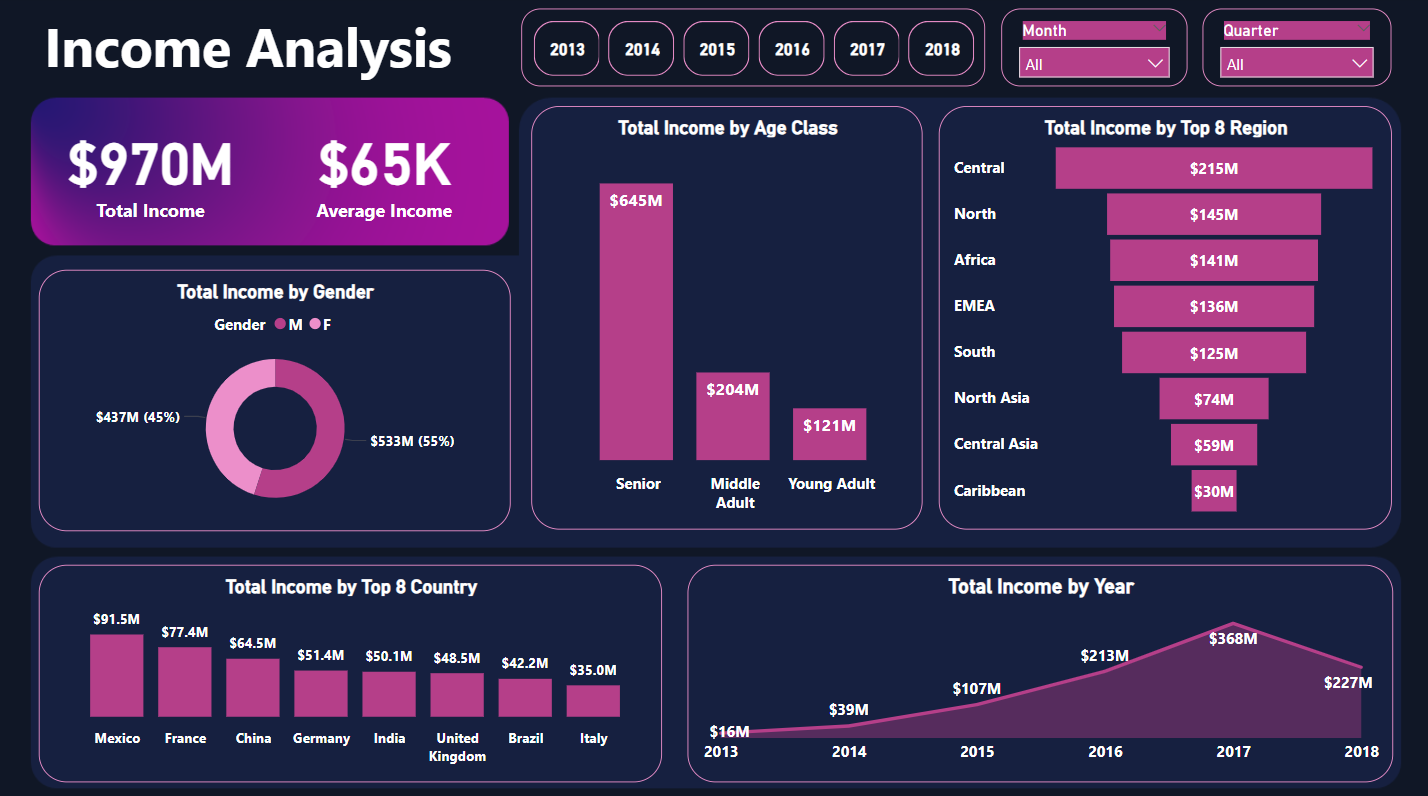

What the dashboard file says about the page in this screenshot:
{"tool":"powerbi","page":{"name":"Income","canvas":[1280,720],"ordinal":1},"visuals":[{"type":"areaChart","fields":{"Y":["All Measure.Total Income"],"Category":["customer.Date_Became_member.Variation.Date Hierarchy.Year"]},"box":[614,508.1,630.2,194.2],"z":0},{"type":"card","fields":{"Values":["All Measure.Total Income"]},"box":[34.9,98.8,200,110.5],"z":1000},{"type":"card","fields":{"Values":["All Measure.Average Income"]},"box":[243,98.8,200,110.5],"z":2000},{"type":"textbox","box":[34.3,6.9,411.7,74.1],"z":3000},{"type":"donutChart","fields":{"Category":["customer.gender"],"Y":["All Measure.Total Income"]},"box":[34.3,244.3,421.3,233.3],"z":4000},{"type":"columnChart","title":"Total Income by Top 8 Country","fields":{"Y":["All Measure.Total Income"],"Category":["customer.Country"]},"box":[34.9,508.1,557,194.2],"z":5000},{"type":"funnel","title":"Total Income by Top 8 Region","fields":{"Category":["customer.Region"],"Y":["All Measure.Total Income"]},"box":[838.4,98.8,404.8,378.7],"z":6000},{"type":"advancedSlicerVisual","fields":{"Values":["customer.Date_Became_member.Variation.Date Hierarchy.Year"]},"box":[465.2,11,414.4,70],"z":7000},{"type":"columnChart","fields":{"Category":["customer.Age Class"],"Y":["All Measure.Total Income"]},"box":[474.8,98.8,349.9,378.7],"z":8000},{"type":"slicer","fields":{"Values":["customer.Date_Became_member.Variation.Date Hierarchy.Month"]},"box":[894,11,166,70],"z":9000},{"type":"slicer","fields":{"Values":["customer.Date_Became_member.Variation.Date Hierarchy.Quarter"]},"box":[1074.4,11,168.8,70],"z":10001}]}

Visuals, with their boxes in screenshot pixels (x1, y1, x2, y2), scaled from the page's 1280x720 canvas onto the 1428x796 screenshot:
areaChart - All Measure.Total Income x customer.Date_Became_member.Variation.Date Hierarchy.Year: bbox=[685, 562, 1388, 776]
card - All Measure.Total Income: bbox=[39, 109, 262, 231]
card - All Measure.Average Income: bbox=[271, 109, 494, 231]
textbox: bbox=[38, 8, 498, 90]
donutChart - customer.gender x All Measure.Total Income: bbox=[38, 270, 508, 528]
"Total Income by Top 8 Country" columnChart: bbox=[39, 562, 660, 776]
"Total Income by Top 8 Region" funnel: bbox=[935, 109, 1387, 528]
advancedSlicerVisual - customer.Date_Became_member.Variation.Date Hierarchy.Year: bbox=[519, 12, 981, 90]
columnChart - customer.Age Class x All Measure.Total Income: bbox=[530, 109, 920, 528]
slicer - customer.Date_Became_member.Variation.Date Hierarchy.Month: bbox=[997, 12, 1183, 90]
slicer - customer.Date_Became_member.Variation.Date Hierarchy.Quarter: bbox=[1199, 12, 1387, 90]
